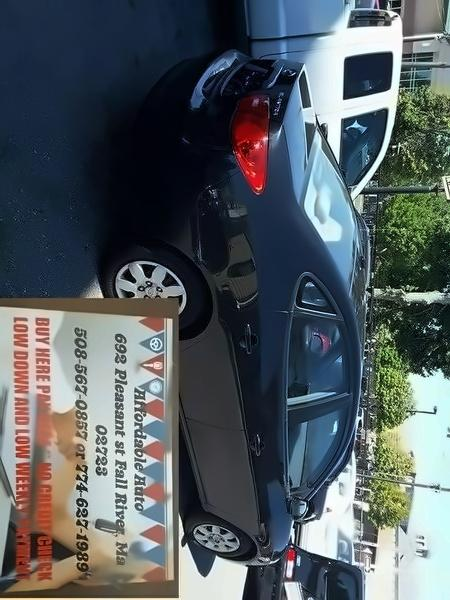Car boot: (199, 38, 330, 189)
Driver-s door - -F-R-: (187, 412, 358, 521)
Fender - -F-R-: (201, 502, 295, 563)
Fender - -R-R-: (139, 198, 285, 344)
Passenger-s door - -R-R-: (172, 307, 361, 410)
Rear bumper: (116, 33, 221, 268)
Rear light - -R-: (218, 87, 279, 211)
Side bumper - -R-: (175, 392, 216, 522)
Side mirror - -R-: (282, 491, 314, 531)
